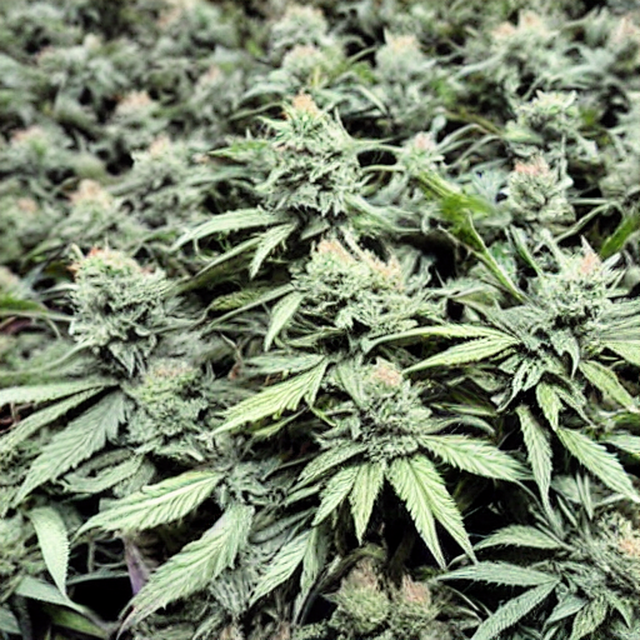Marijuana Plant: (83, 5, 555, 639)
